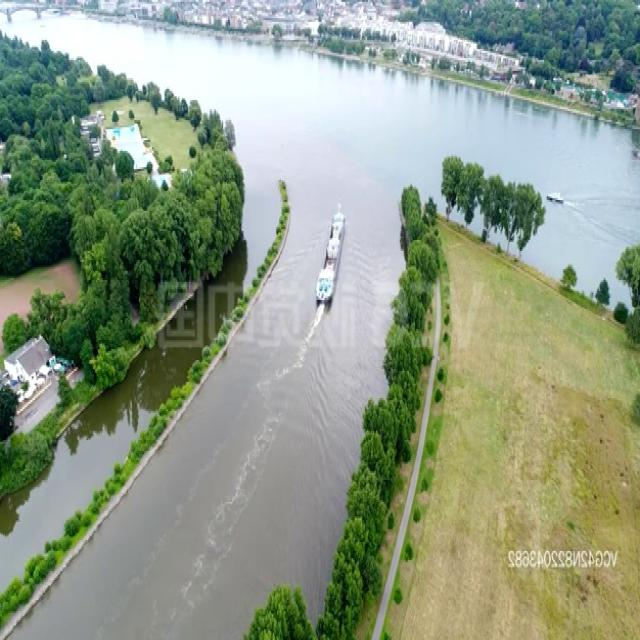cargoship: (314, 198, 348, 302)
houseboat: (547, 188, 565, 206)
